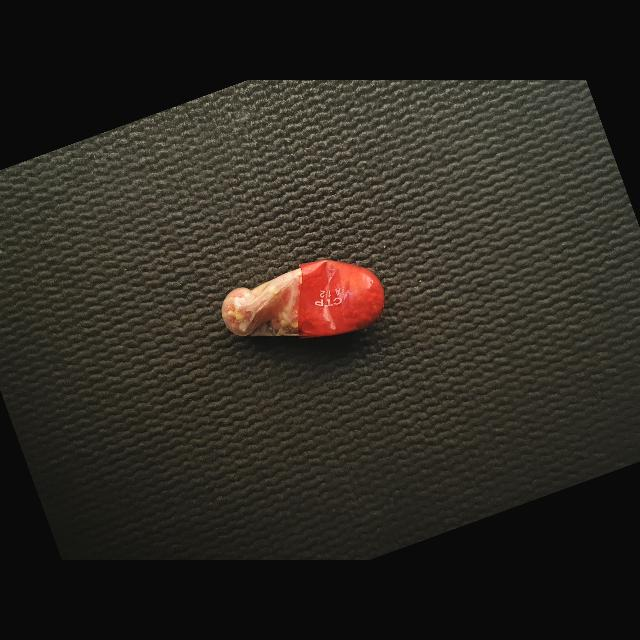Defective Capsule: (222, 260, 385, 339)
